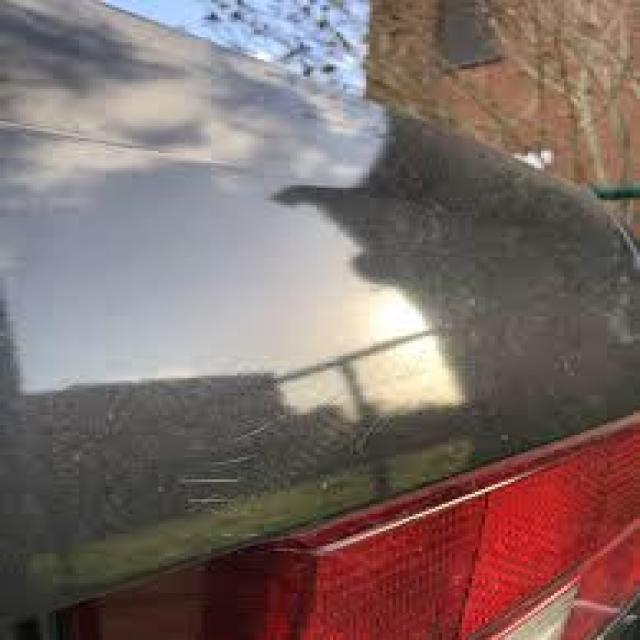dent-or-scratch: (130, 426, 276, 514)
